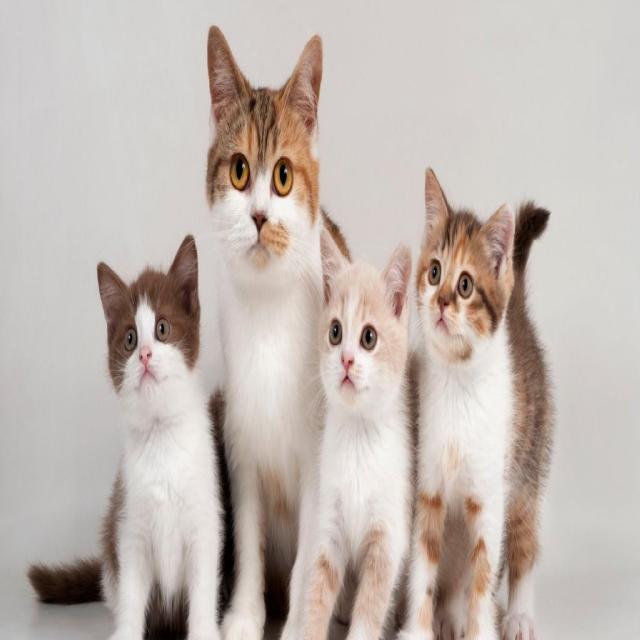cat: (190, 64, 348, 324)
